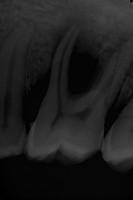Dental Caries: (48, 17, 103, 98)
